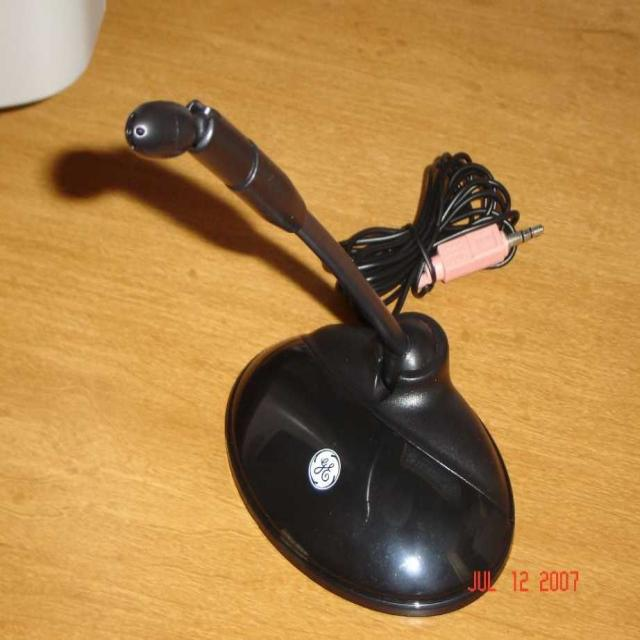microphone: (124, 98, 203, 159)
